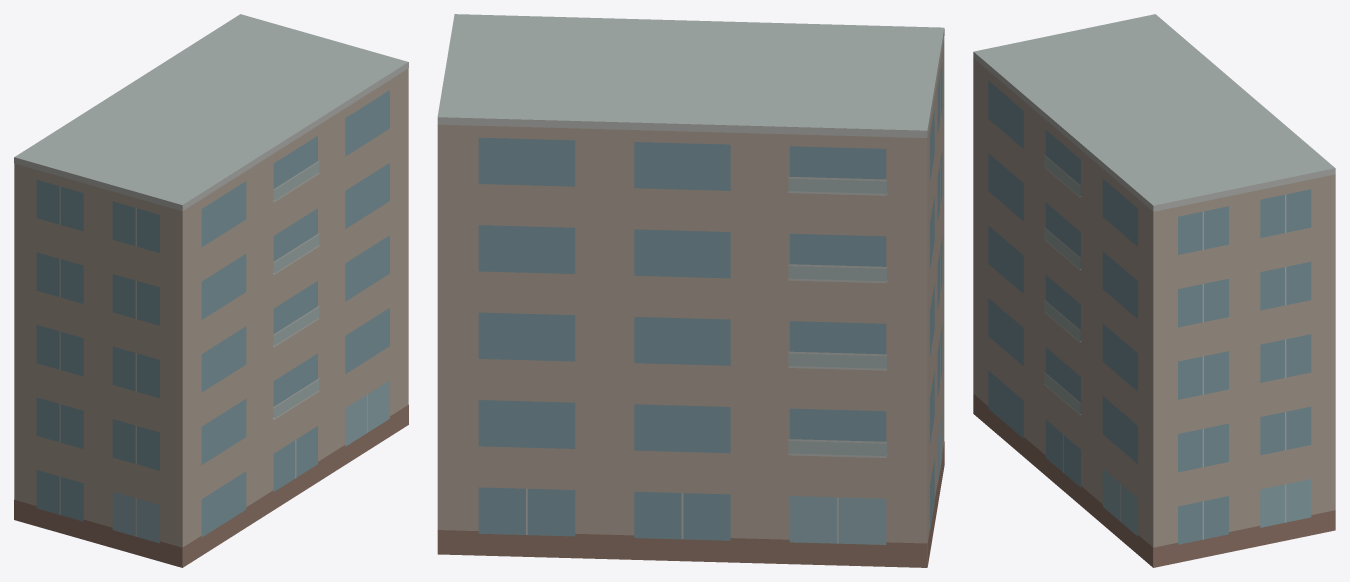
Rendered from survey-upis-32703746.glb.
3 views of the same model, side by side, from view 1: azimuth 30°, elevation 25°; view 2: azimuth 150°, elevation 25°; view 3: azimuth 270°, elevation 25° (orthographic). The views are drawn at different scales.
Parts seen in each view (by area): view 1: survey-upis-32703746.tmp; view 2: survey-upis-32703746.tmp; view 3: survey-upis-32703746.tmp.
Boxes of the visible parts, box(x1,y1,x2,y2) form: survey-upis-32703746.tmp: box(14, 14, 408, 567); survey-upis-32703746.tmp: box(437, 14, 944, 567); survey-upis-32703746.tmp: box(973, 14, 1335, 567).
Bounding box in the file's own units: 16.35 × 14.4 × 13.06.
